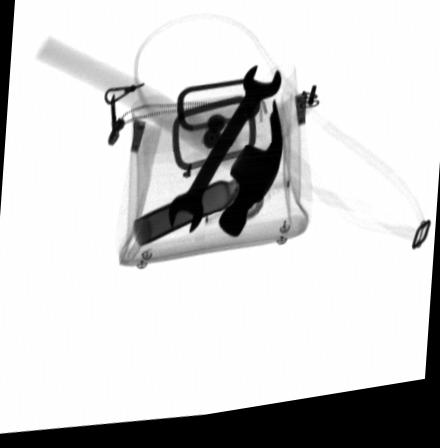Hammer: (35, 37, 283, 246)
Wrench: (169, 72, 281, 240)
